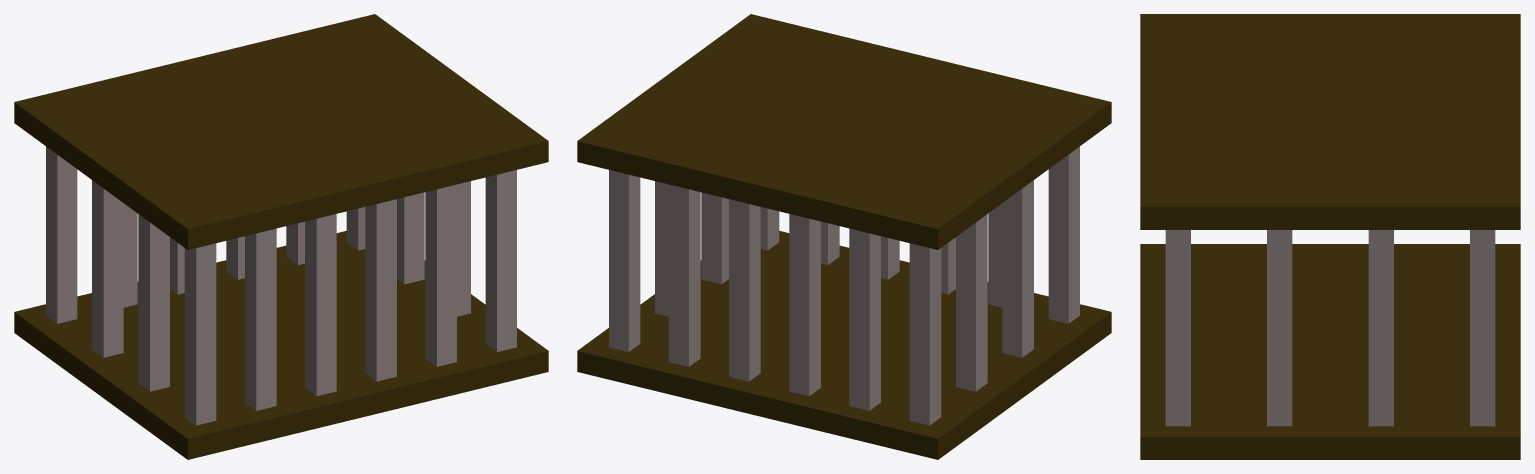
The model's file is inv_scorpion_cage_1.obj.
3 views of the same model, side by side, from view 1: azimuth 30°, elevation 25°; view 2: azimuth 150°, elevation 25°; view 3: azimuth 270°, elevation 25° (orthographic). The views are drawn at different scales.
Bounding box in the file's own units: 0.5625 × 0.3438 × 0.4688.
